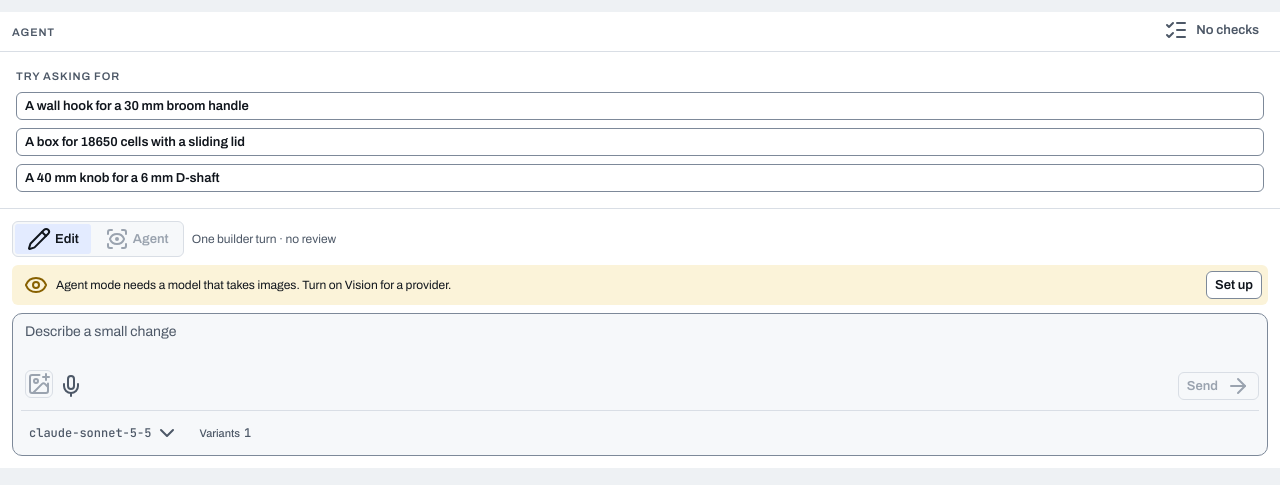
offers suggestions on an empty chat that fill the prompt box
Check: the text "Try asking for" is shown, box [16,70,120,82]
Click the button "A box for 18650 cells with a sliding lid": (135, 142) [16,128,1264,156]
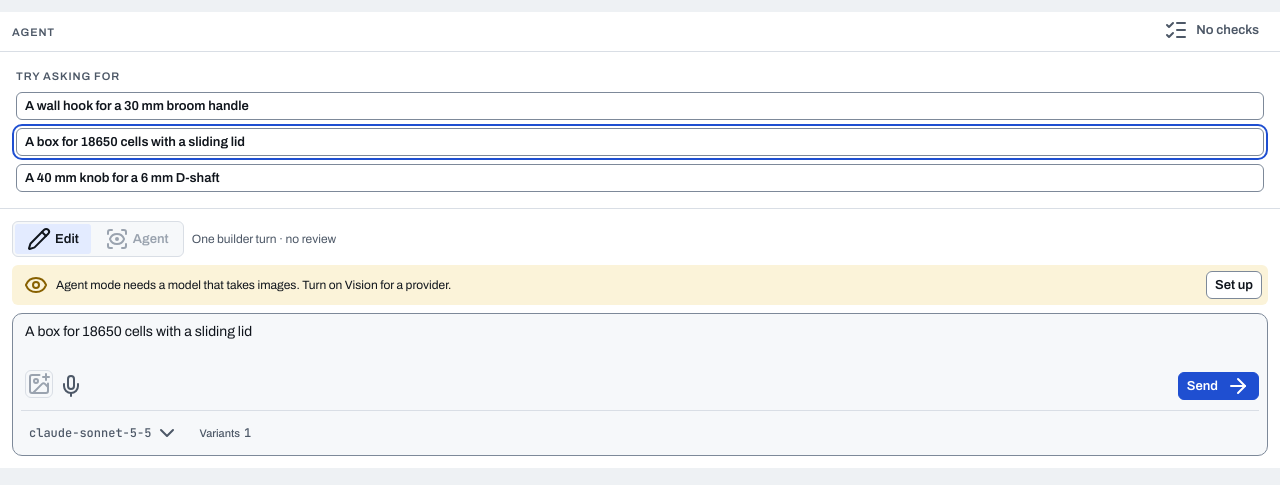
Check: the text box named "Prompt" holds "A box for 18650 cells with a sliding lid", box [25,322,1259,362]
